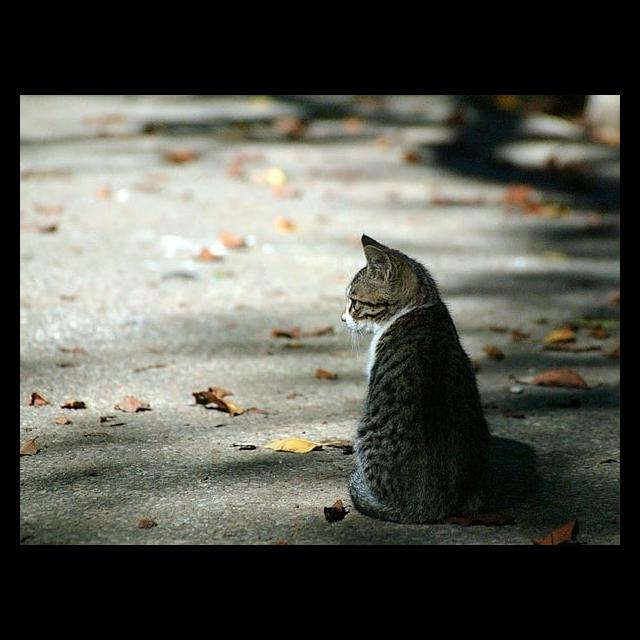animals: (339, 233, 491, 526)
